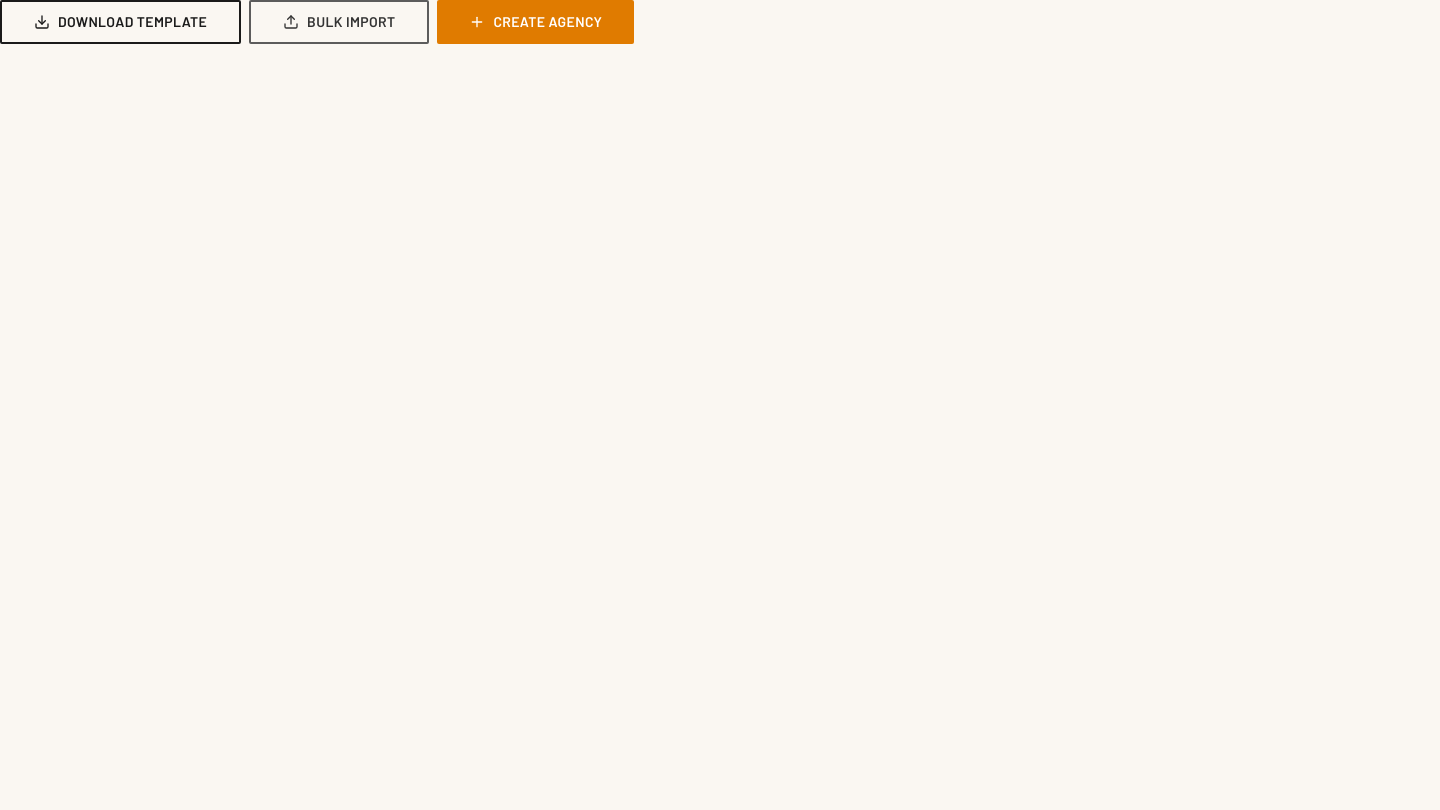
Test: AdminAgenciesActions › opens BulkImportModal when Bulk Import button is clicked
The image size is (1440, 810).
Click the button with test id "bulk-import-button" at (339, 22), box [249,0,429,44]
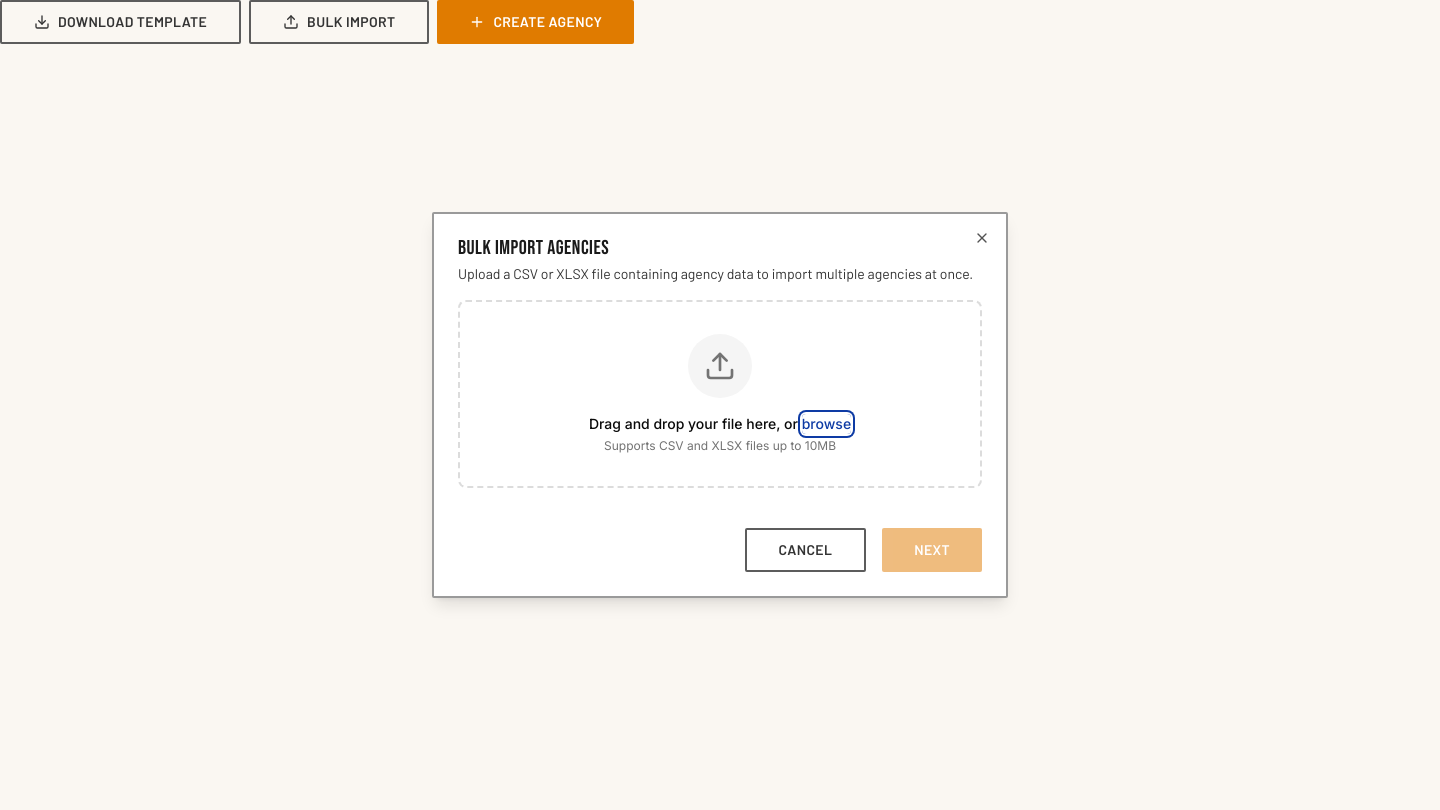
Result: the dialog with test id "bulk-import-modal" is shown at [432,212,1008,598]
